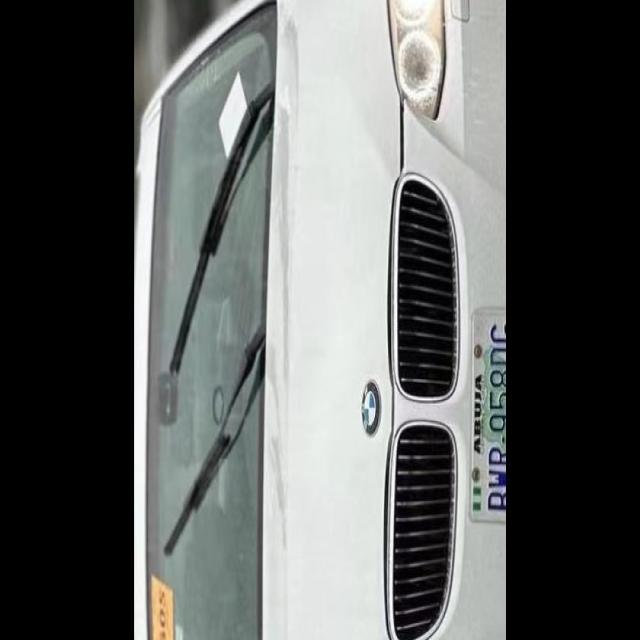Nigerian License Plate - vdataset benjamin-daria: (467, 304, 506, 526)
